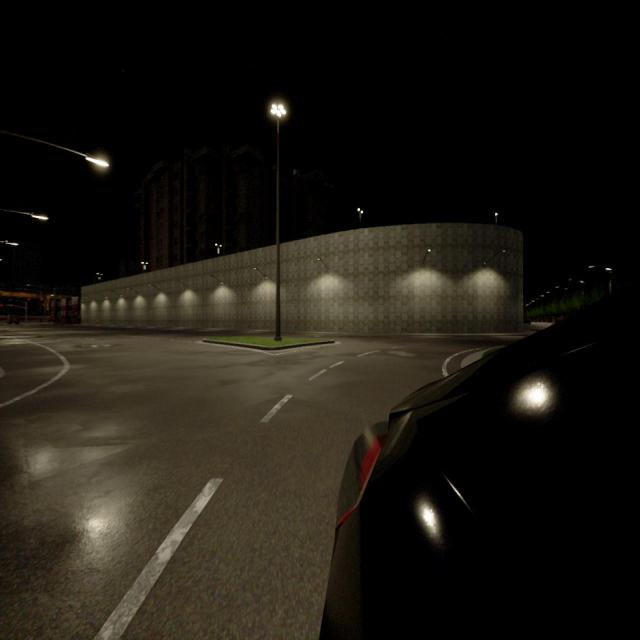Vehicle: (323, 289, 639, 640), (11, 316, 19, 324)
traffic_light: (27, 298, 30, 302), (0, 304, 3, 308), (10, 304, 13, 307), (40, 298, 43, 301)
